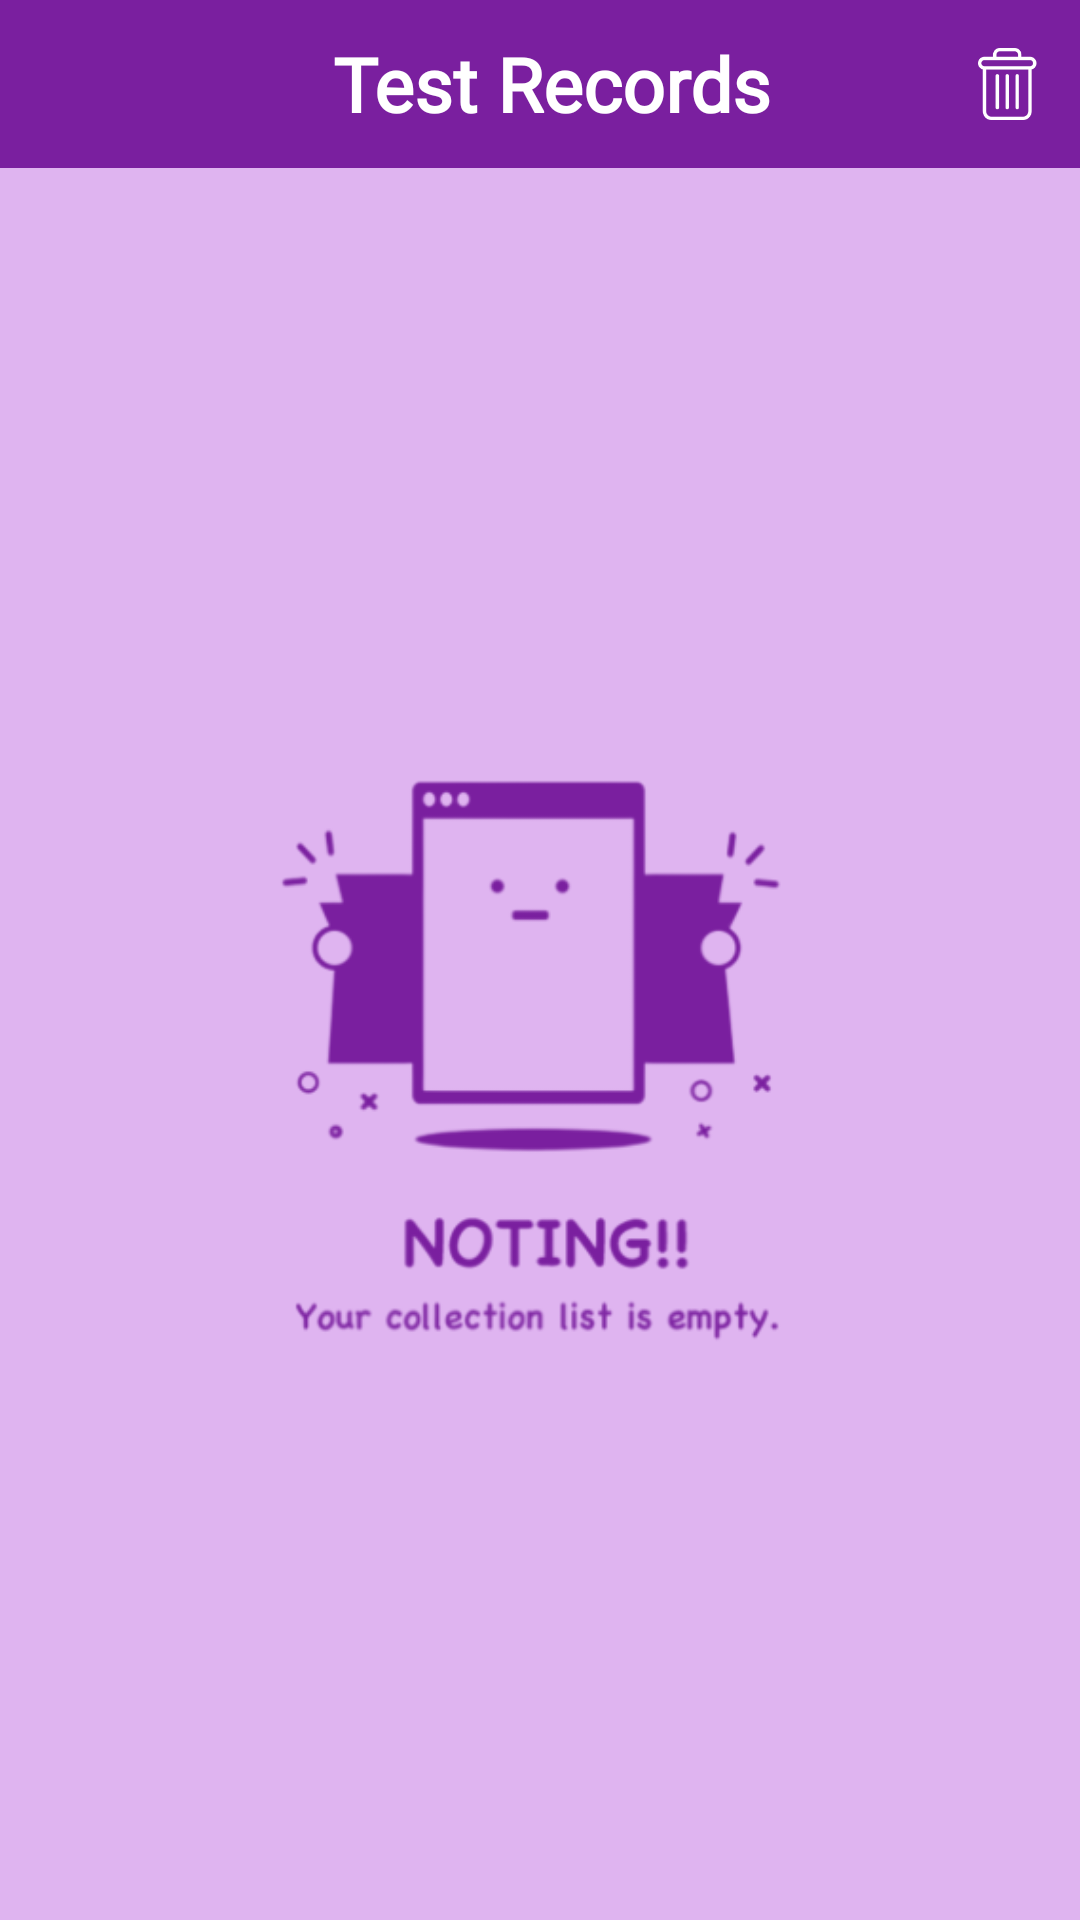

Named icons in this screenshot (1080w x 1920h) and their centers, (x=x, y=y):
delete: (x=1007, y=84)
